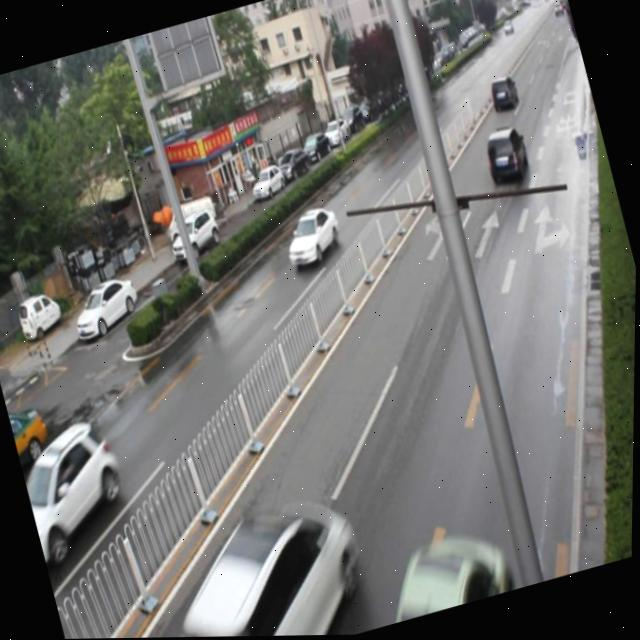car: (150, 483, 381, 638), (13, 411, 135, 563), (371, 521, 515, 626), (279, 205, 347, 277)
truck: (477, 124, 529, 185), (486, 75, 519, 110)
